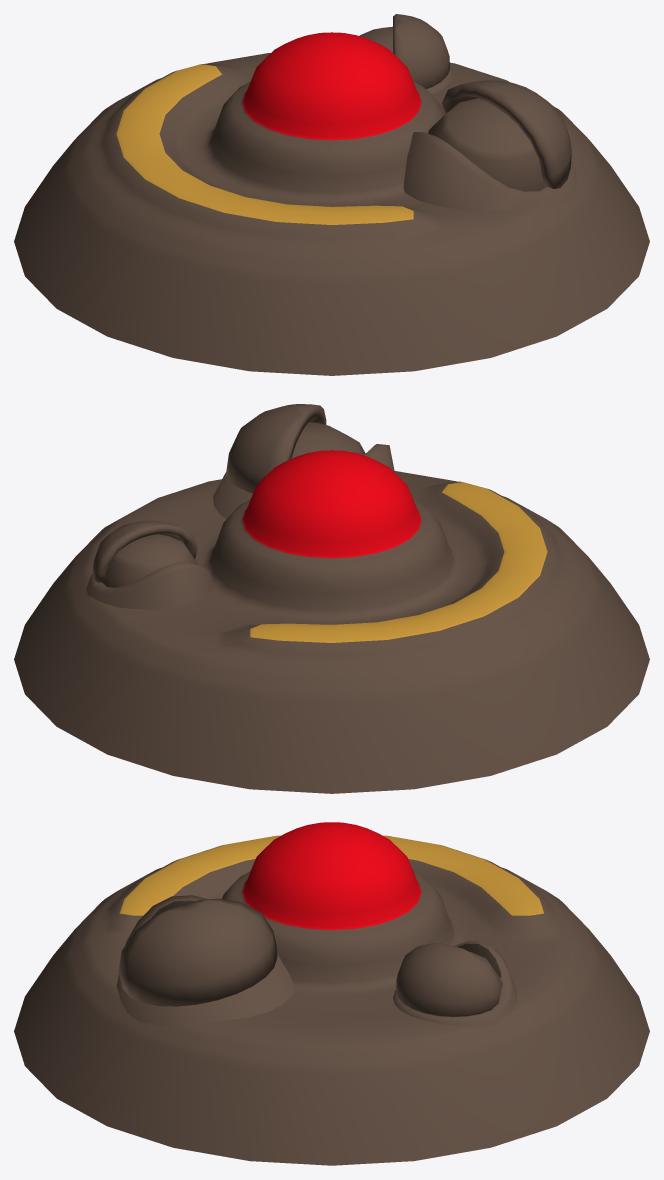
File: bomba_mesh.fbx
The picture shows the model from 3 angles, top to bottom: view 1: azimuth 30°, elevation 25°; view 2: azimuth 150°, elevation 25°; view 3: azimuth 270°, elevation 25°; orthographic projection.
Visible parts, largest first — view 1: Circle.001; view 2: Circle.001; view 3: Circle.001.
Boxes of the visible parts, box(x1,y1,x2,y2) form: Circle.001: box(14, 14, 649, 375); Circle.001: box(14, 404, 649, 793); Circle.001: box(14, 822, 649, 1165).
Bounding box in the file's own units: 486 × 170 × 486.
